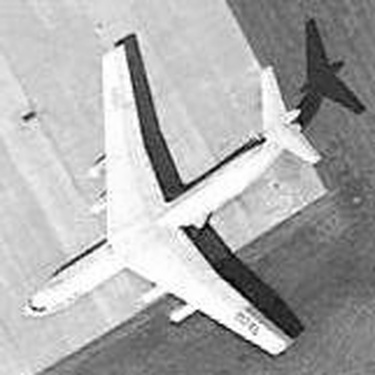airplane: (12, 22, 346, 364)
